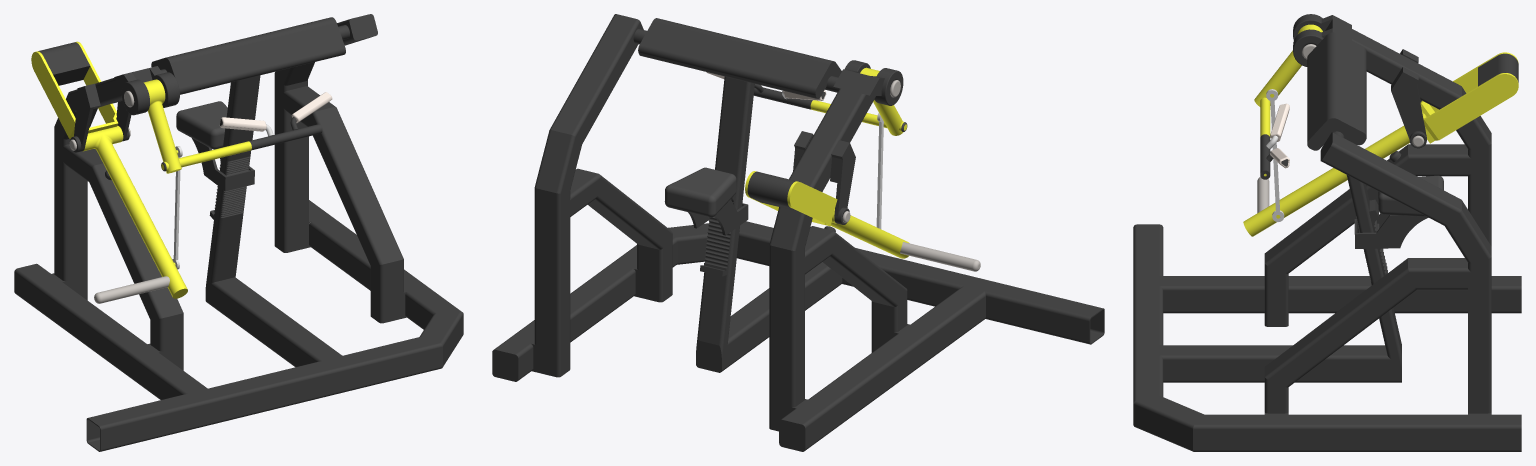
File: preacher-curl-machine.glb
3 renders of one model, left to right at view 1: azimuth 30°, elevation 25°; view 2: azimuth 150°, elevation 25°; view 3: azimuth 270°, elevation 25°, orthographic. The views are drawn at different scales.
Parts seen in each view (by area): view 1: Body-1, Arm big-1, Seat-1, Arm small-1, Grip-1, Linker-1; view 2: Body-1, Arm big-1, Seat-1, Arm small-1, Grip-1, Linker-1; view 3: Body-1, Arm big-1, Seat-1, Arm small-1, Grip-1, Linker-1.
Part boxes in pixels (left/top/right/bottom): Body-1: left=14, top=14, right=463, bottom=451; Arm big-1: left=31, top=41, right=187, bottom=303; Seat-1: left=176, top=101, right=254, bottom=191; Arm small-1: left=143, top=79, right=251, bottom=173; Grip-1: left=219, top=92, right=332, bottom=150; Linker-1: left=172, top=146, right=182, bottom=269; Body-1: left=492, top=14, right=1104, bottom=451; Arm big-1: left=745, top=171, right=980, bottom=271; Seat-1: left=664, top=167, right=748, bottom=235; Arm small-1: left=810, top=67, right=907, bottom=135; Grip-1: left=706, top=72, right=826, bottom=109; Linker-1: left=876, top=112, right=883, bottom=228; Body-1: left=1133, top=14, right=1521, bottom=451; Arm big-1: left=1243, top=52, right=1518, bottom=236; Seat-1: left=1354, top=175, right=1443, bottom=248; Arm small-1: left=1254, top=24, right=1322, bottom=176; Grip-1: left=1260, top=103, right=1289, bottom=179; Linker-1: left=1266, top=89, right=1284, bottom=221.
Bounding box in the file's own units: 0.799 × 0.5582 × 0.65.
